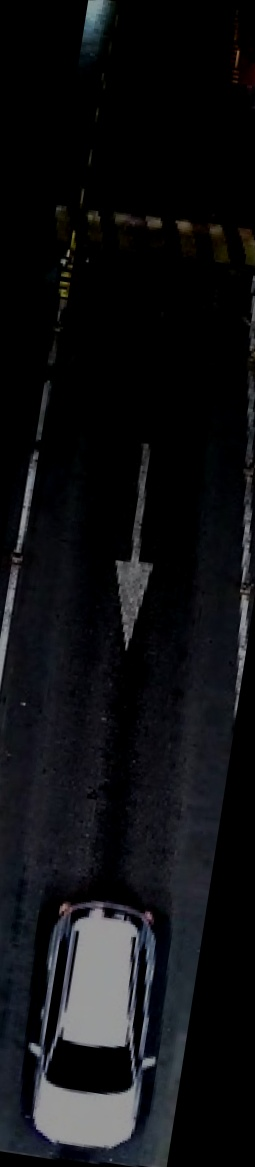car: (0, 883, 184, 1162)
